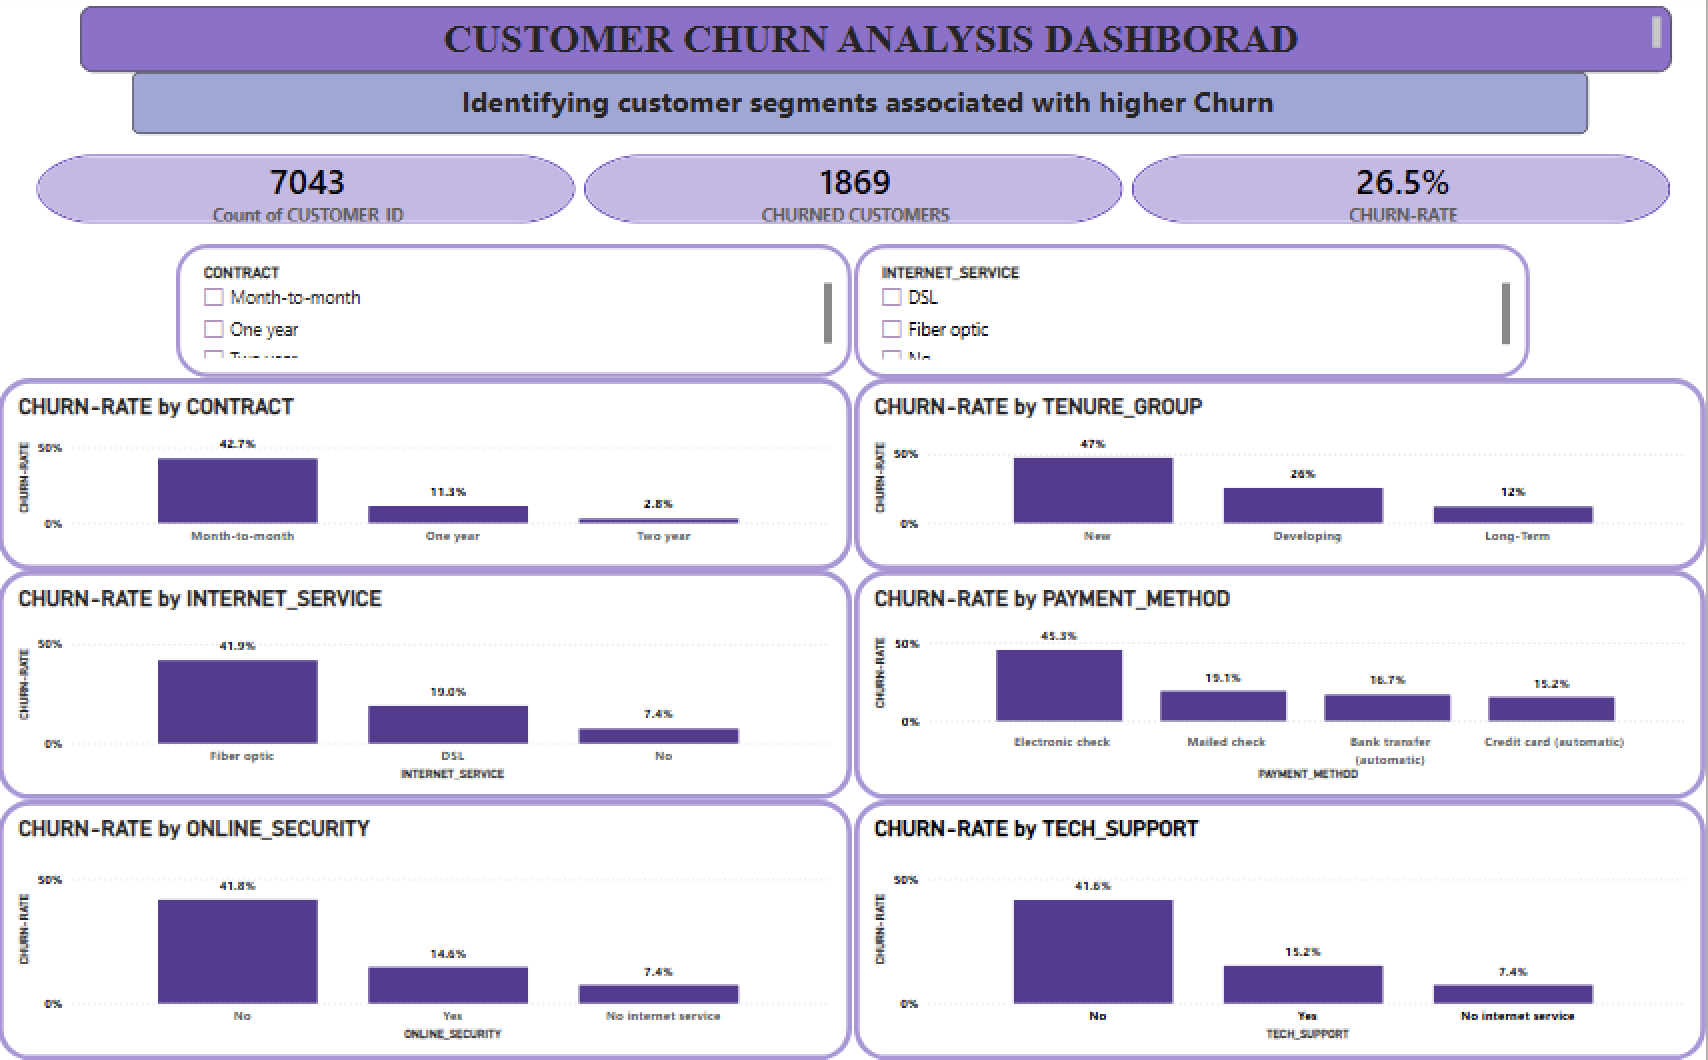

This screenshot's page, from the dashboard's own definition file:
{"tool":"powerbi","page":{"name":"Churn Dashboard","canvas":[1600,1000],"ordinal":0},"visuals":[{"type":"cardVisual","fields":{"Data":["CountNonNull(Telco-Customer-Churn.customerID)","Telco-Customer-Churn.Churned customers","Telco-Customer-Churn.churn rate"]},"box":[16.9,133,1570,103],"z":0},{"type":"clusteredColumnChart","fields":{"Category":["Telco-Customer-Churn.Contract"],"Y":["Telco-Customer-Churn.churn rate"]},"box":[0,361.6,800,179.9],"z":1000},{"type":"clusteredColumnChart","fields":{"Category":["Telco-Customer-Churn.InternetService"],"Y":["Telco-Customer-Churn.churn rate"]},"box":[0,541.5,800,215.5],"z":2000},{"type":"clusteredColumnChart","fields":{"Category":["Telco-Customer-Churn.PaymentMethod"],"Y":["Telco-Customer-Churn.churn rate"]},"box":[801.9,541.5,798.1,215.5],"z":3000},{"type":"slicer","fields":{"Values":["Telco-Customer-Churn.Contract"]},"box":[166.7,236.1,633,125],"z":4000},{"type":"slicer","fields":{"Values":["Telco-Customer-Churn.InternetService"]},"box":[801.9,236.1,633,125.5],"z":5000},{"type":"clusteredColumnChart","fields":{"Category":["Telco-Customer-Churn.TechSupport"],"Y":["Telco-Customer-Churn.churn rate"]},"box":[801.9,756.9,798.1,243.6],"z":6000},{"type":"clusteredColumnChart","fields":{"Category":["Telco-Customer-Churn.OnlineSecurity"],"Y":["Telco-Customer-Churn.churn rate"]},"box":[0,756.9,800,243.6],"z":7000},{"type":"textbox","box":[76.8,13.1,1491.3,61.8],"z":8000},{"type":"clusteredColumnChart","fields":{"Category":["Telco-Customer-Churn.Tenure group"],"Y":["Telco-Customer-Churn.churn rate"]},"box":[801.9,361.6,798.1,179.9],"z":9000},{"type":"textbox","box":[125.5,74.9,1363.9,58.1],"z":10000}]}

Visuals, with their boxes in screenshot pixels (x1, y1, x2, y2), scaled from the page's 1600x1000 canvas onto the 1708x1060 screenshot:
cardVisual - CountNonNull(Telco-Customer-Churn.customerID) x Telco-Customer-Churn.Churned customers: [18, 141, 1694, 250]
clusteredColumnChart - Telco-Customer-Churn.Contract x Telco-Customer-Churn.churn rate: [0, 383, 854, 574]
clusteredColumnChart - Telco-Customer-Churn.InternetService x Telco-Customer-Churn.churn rate: [0, 574, 854, 802]
clusteredColumnChart - Telco-Customer-Churn.PaymentMethod x Telco-Customer-Churn.churn rate: [856, 574, 1707, 802]
slicer - Telco-Customer-Churn.Contract: [178, 250, 854, 383]
slicer - Telco-Customer-Churn.InternetService: [856, 250, 1532, 383]
clusteredColumnChart - Telco-Customer-Churn.TechSupport x Telco-Customer-Churn.churn rate: [856, 802, 1707, 1059]
clusteredColumnChart - Telco-Customer-Churn.OnlineSecurity x Telco-Customer-Churn.churn rate: [0, 802, 854, 1059]
textbox: [82, 14, 1674, 79]
clusteredColumnChart - Telco-Customer-Churn.Tenure group x Telco-Customer-Churn.churn rate: [856, 383, 1707, 574]
textbox: [134, 79, 1590, 141]
